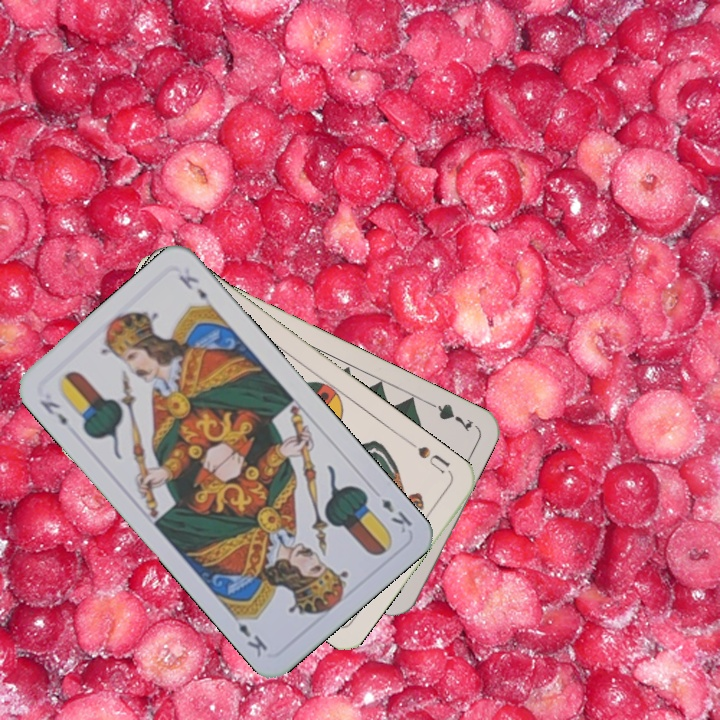EK: (377, 494, 415, 536), (35, 396, 70, 429)
G7: (421, 396, 476, 435)
SU: (404, 436, 455, 478)
